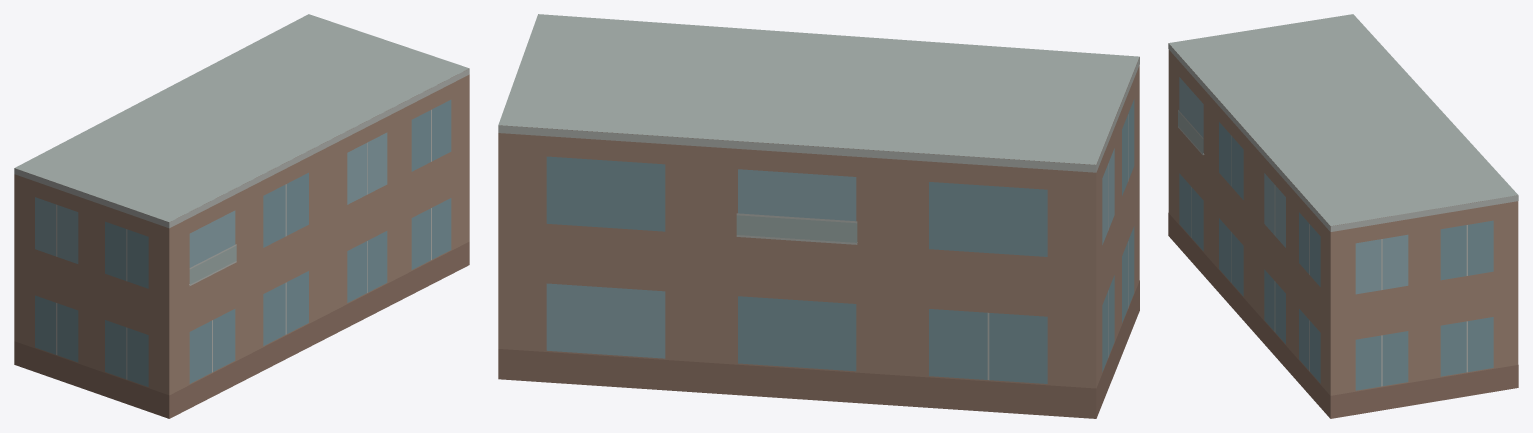
Rendered from survey-upis-32842329.glb.
3 renders of one model, left to right at view 1: azimuth 30°, elevation 25°; view 2: azimuth 150°, elevation 25°; view 3: azimuth 270°, elevation 25°, orthographic. The views are drawn at different scales.
Visible parts, largest first — view 1: survey-upis-32842329.tmp; view 2: survey-upis-32842329.tmp; view 3: survey-upis-32842329.tmp.
Boxes of the visible parts, bbox=[...] form: survey-upis-32842329.tmp: bbox=[14, 14, 469, 418]; survey-upis-32842329.tmp: bbox=[498, 14, 1139, 418]; survey-upis-32842329.tmp: bbox=[1168, 14, 1518, 418].
Bounding box in the file's own units: 18.67 × 7.9 × 13.01.
